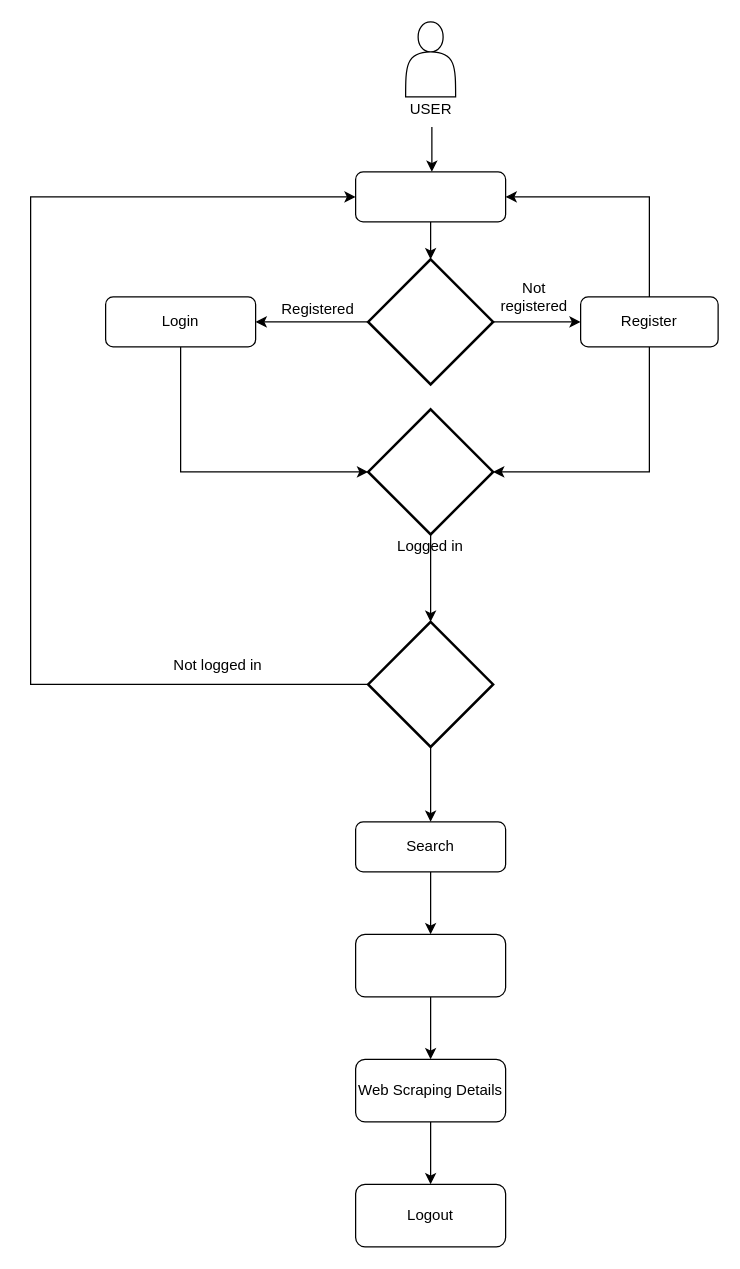
Image size: 740x1269. Some labels were removed from this diagram. The shapes that lost their labels are listed below. From the top down, each one's centre as x and y in pixels, then its label:
point 430,196: Register Page
point 430,965: Web Scraping
